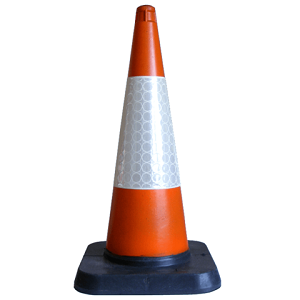traffic cone: (74, 4, 221, 295)
